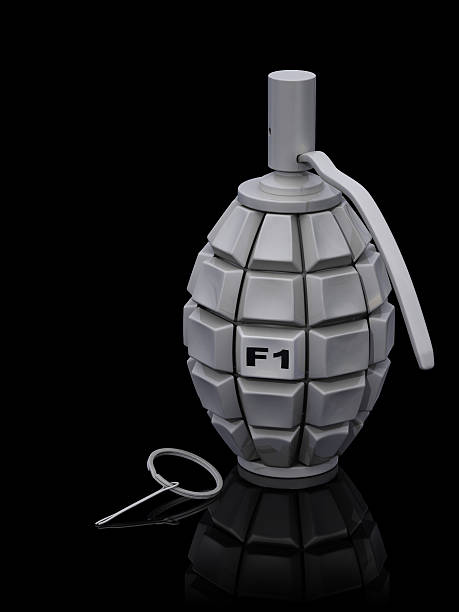e1: (175, 67, 434, 492)
